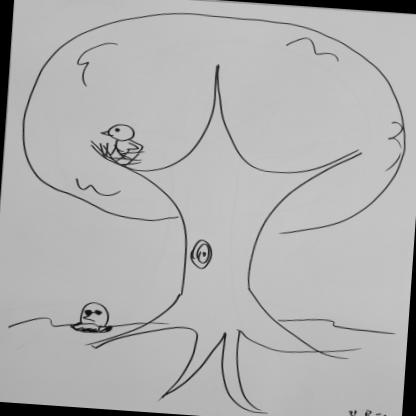bird: (98, 119, 150, 158)
branch_sharp: (82, 46, 372, 200)
crown_mushroom: (12, 0, 411, 244)
root_upside: (80, 293, 363, 416)
trunk_straight: (170, 226, 272, 306)
